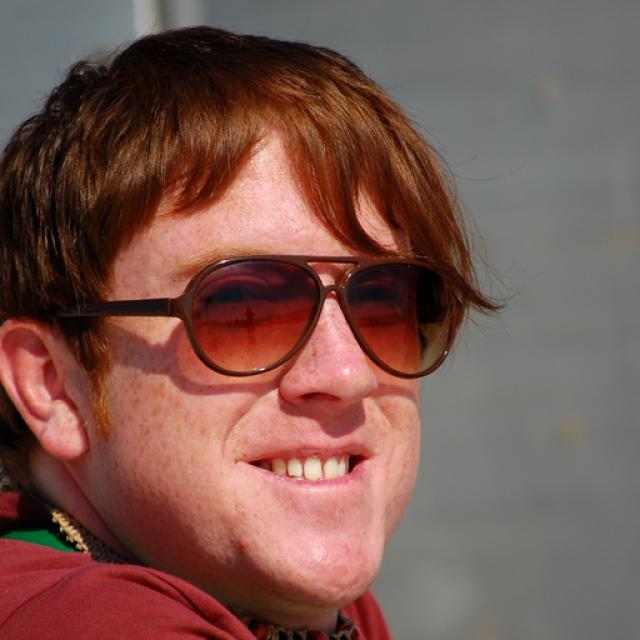disgust: (84, 130, 422, 608)
